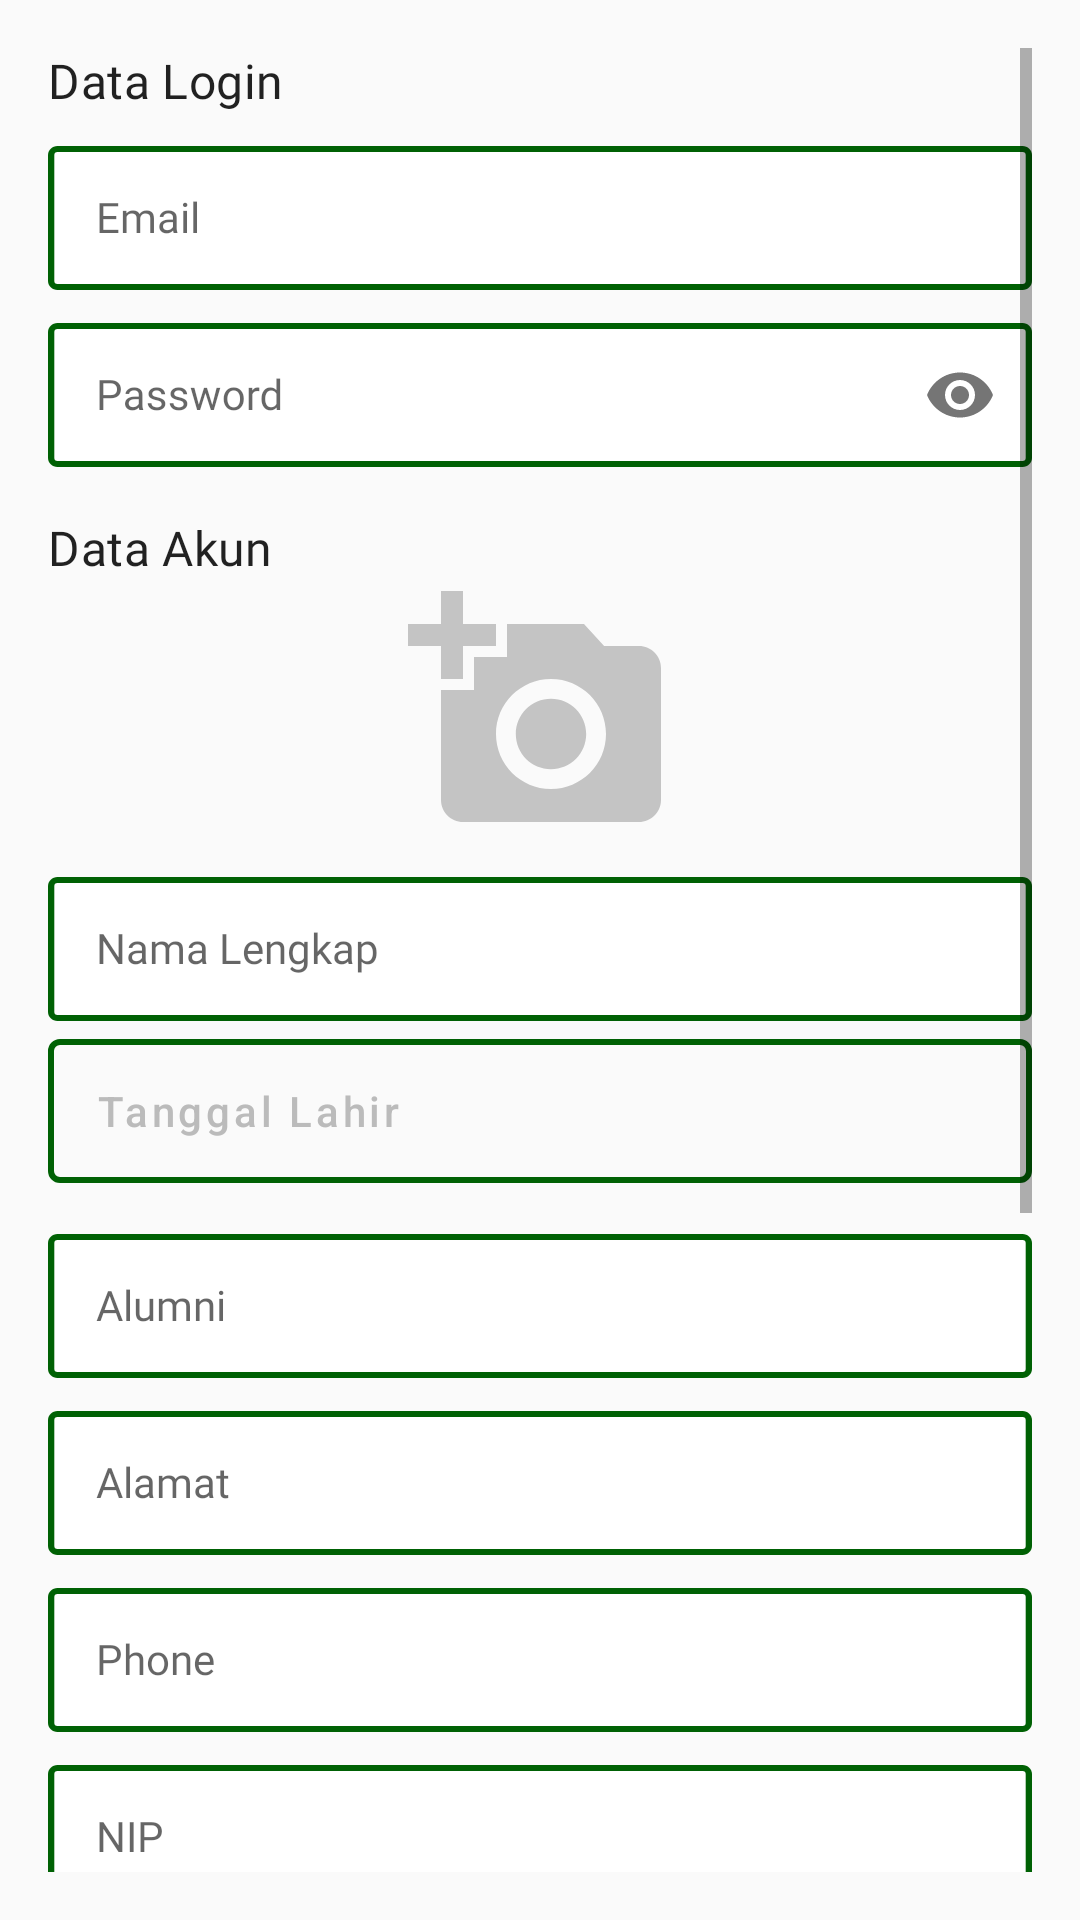

Where to tap for icons on this 1080px×1920px app screen, as [x,y]:
add photo: [534,706]
